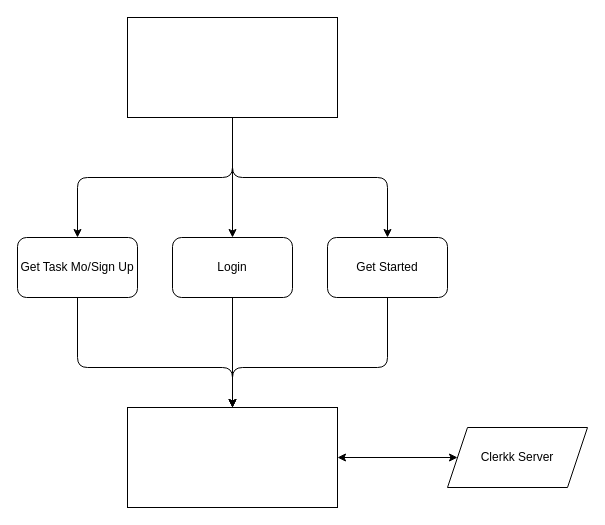
The diagram is 605 pixels wide and 525 high, and some of its shapes have lost their labels. Here are the shapes that lost their labels. From the top down, the centre of each, then its label:
pixel 232 67: Landing Page
pixel 232 457: Clerk Authentication Provider Login/Sign-up
